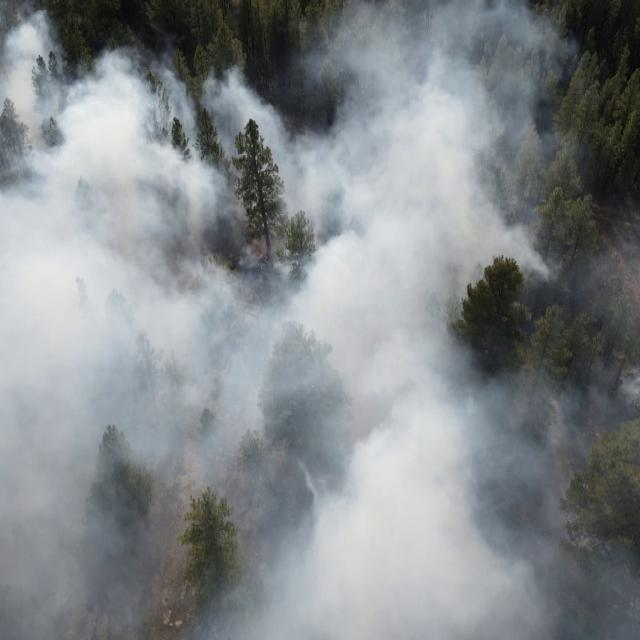smoke: (292, 0, 576, 638), (64, 66, 254, 640), (0, 0, 65, 640), (575, 219, 640, 640), (254, 97, 292, 640), (94, 44, 178, 66)
